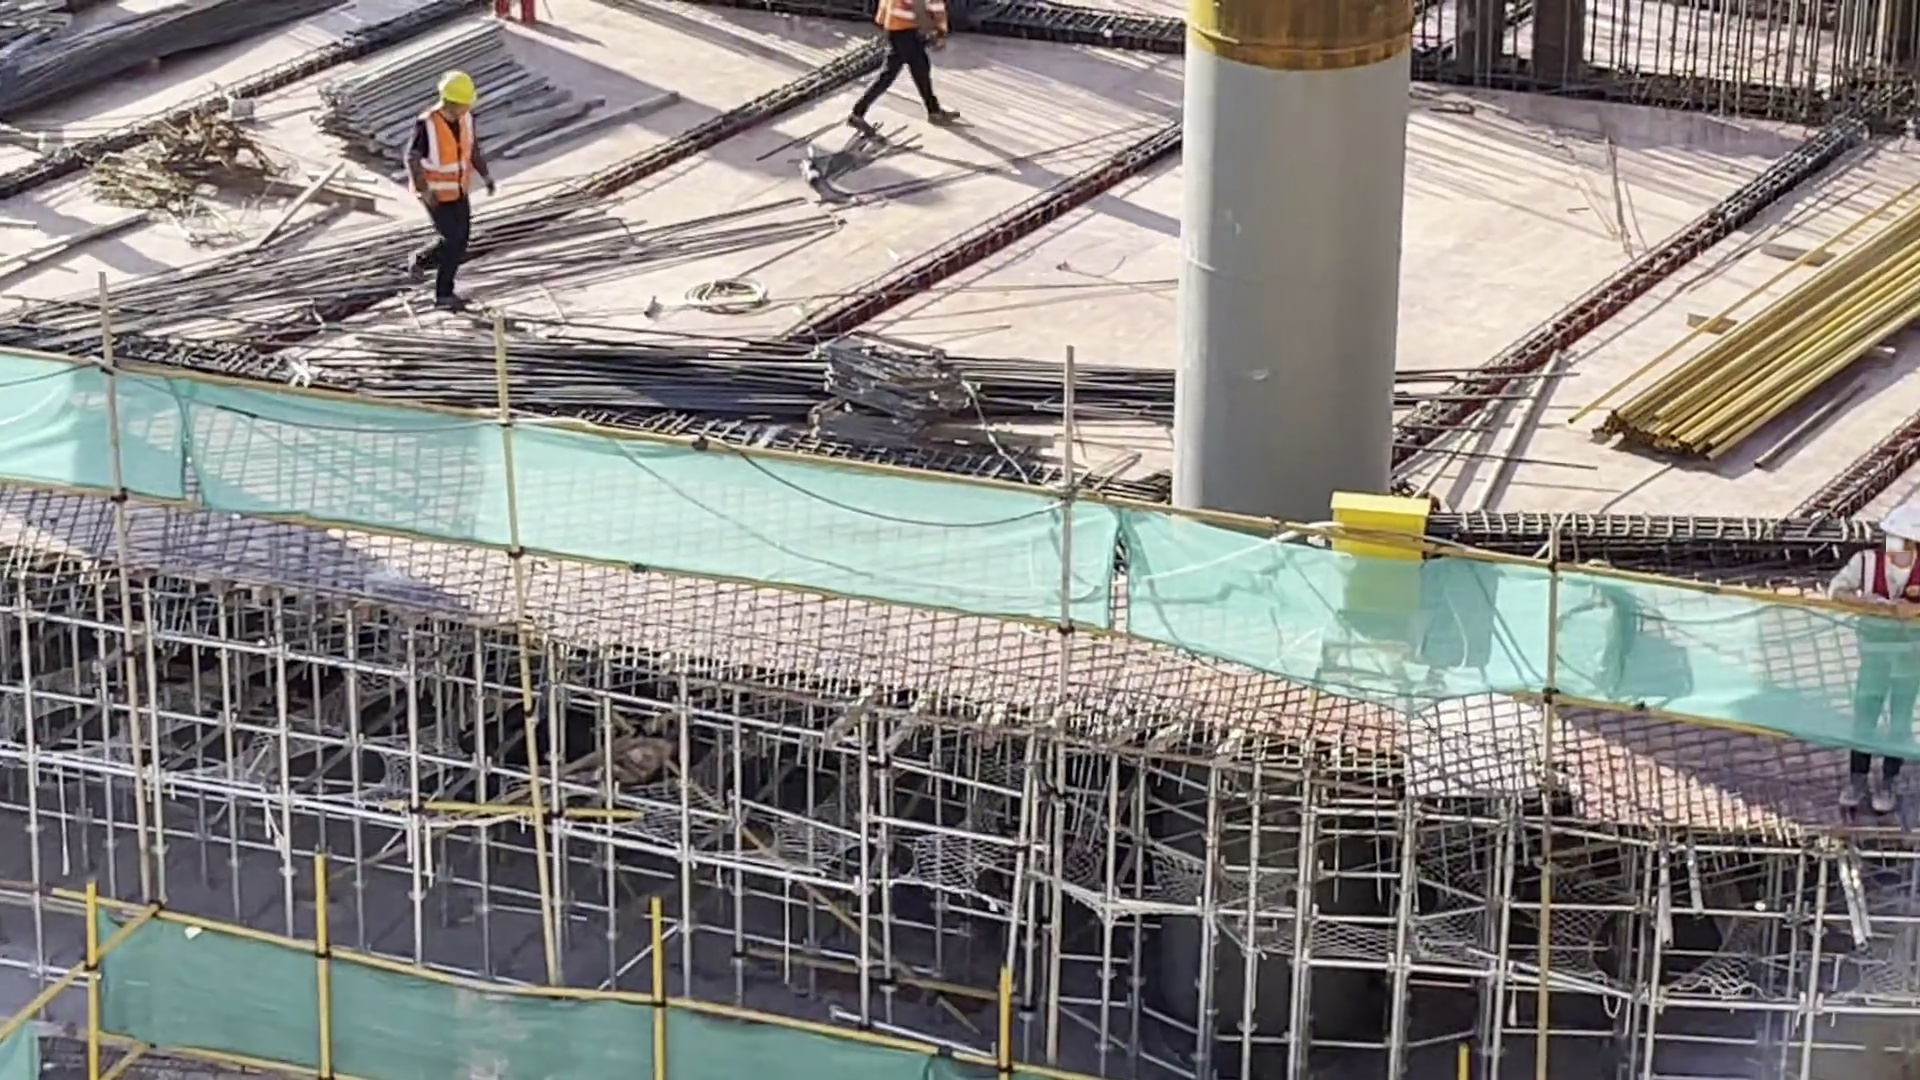ebox: (1310, 475, 1440, 658)
helmet: (434, 65, 486, 105), (1889, 494, 1920, 549)
person: (1847, 506, 1920, 847), (401, 57, 492, 317), (849, 1, 983, 144)
vest: (1853, 548, 1920, 677), (412, 105, 483, 208)
wood: (332, 22, 551, 182)
